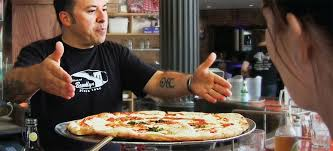pizza: (84, 111, 244, 142)
